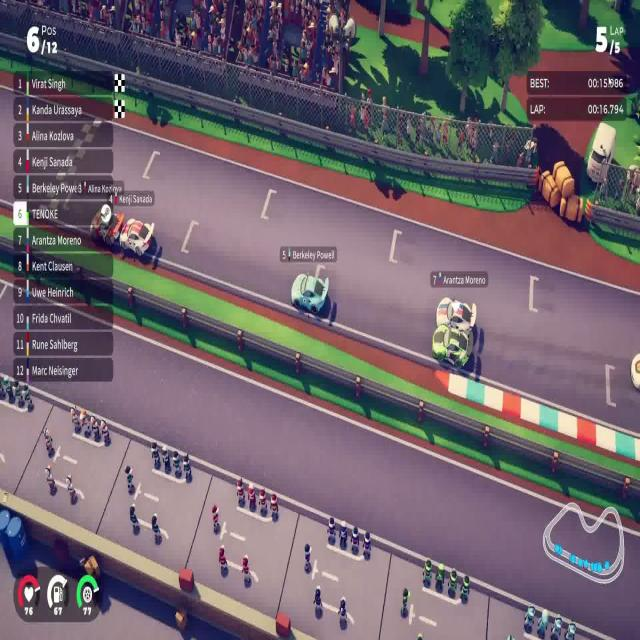car: (290, 270, 329, 315), (434, 292, 478, 330), (431, 328, 468, 370), (118, 216, 155, 258)
